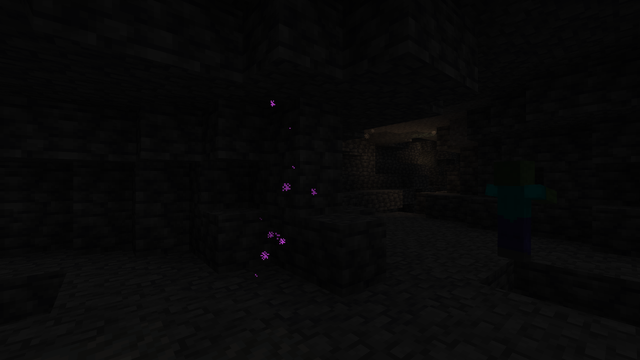zombies: (492, 162, 535, 264)
